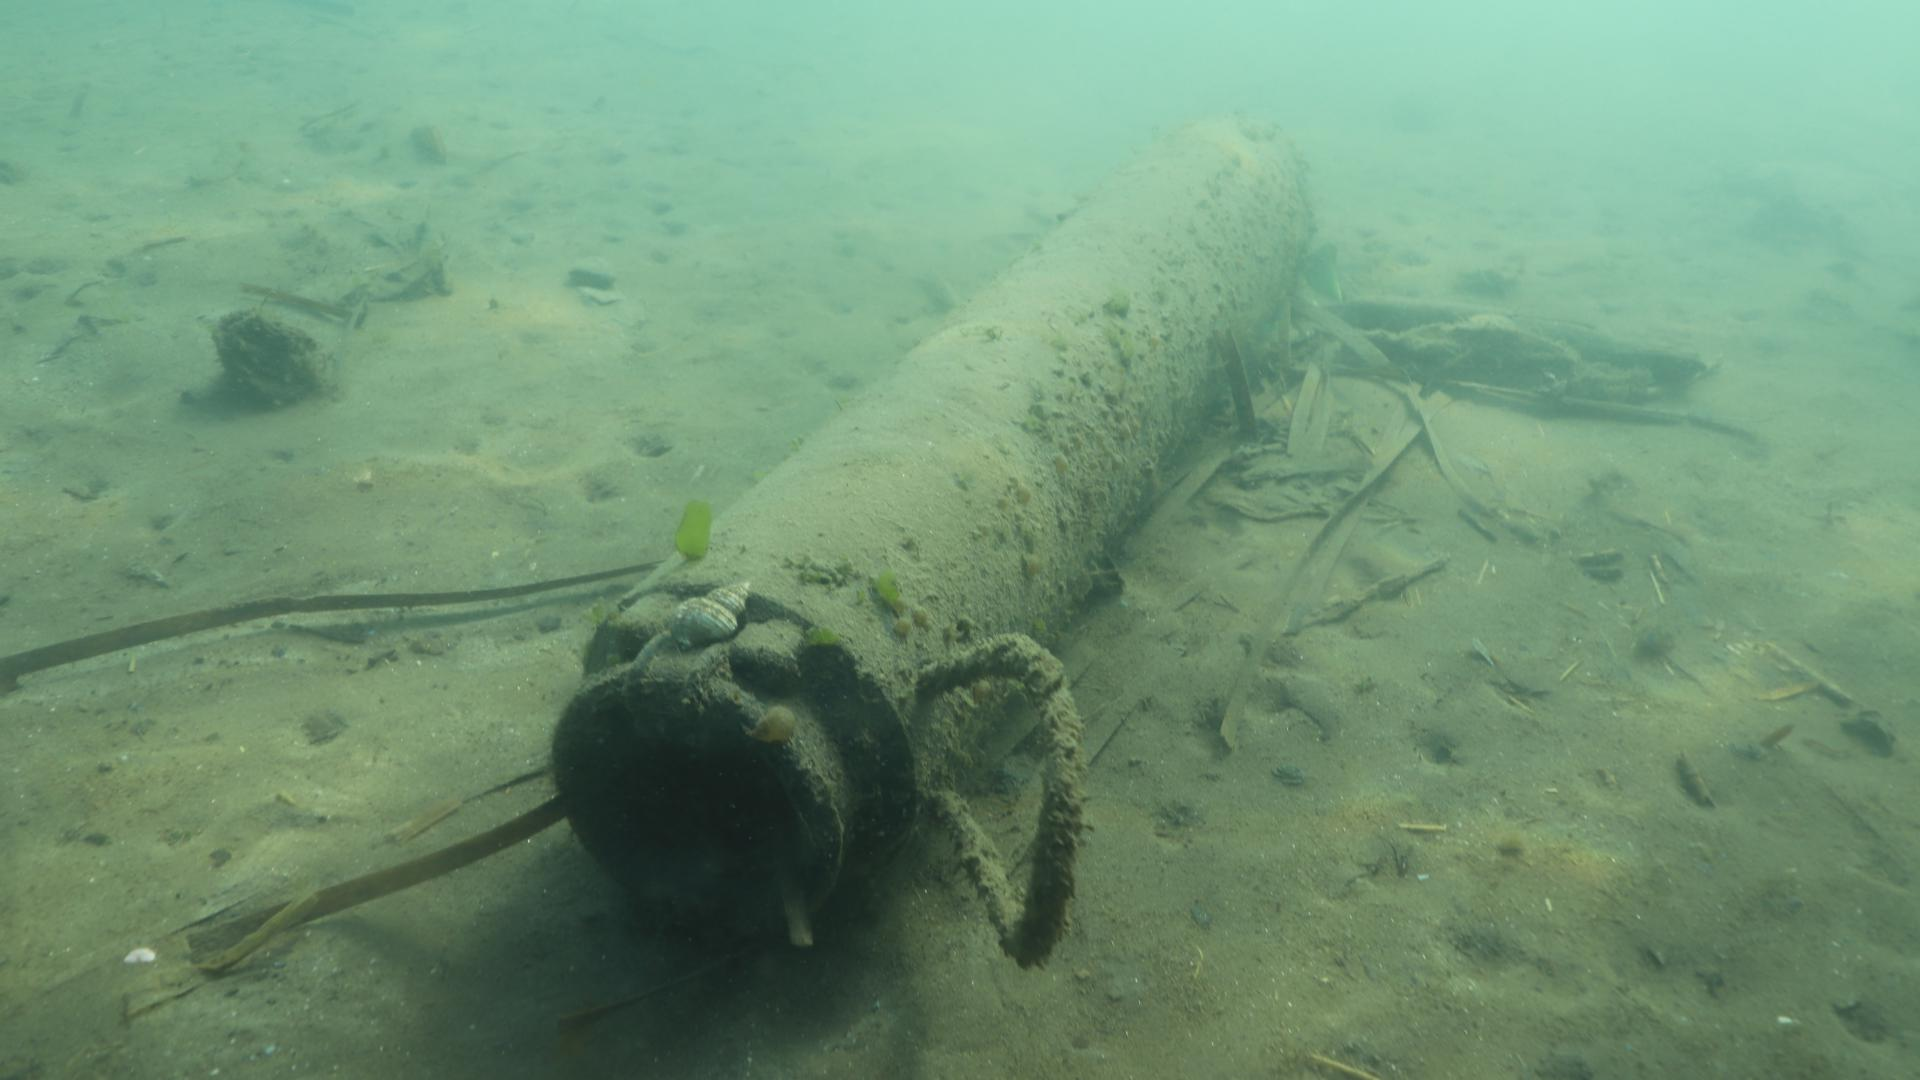eel fish trap: (550, 109, 1315, 945)
rope: (909, 632, 1085, 965)
